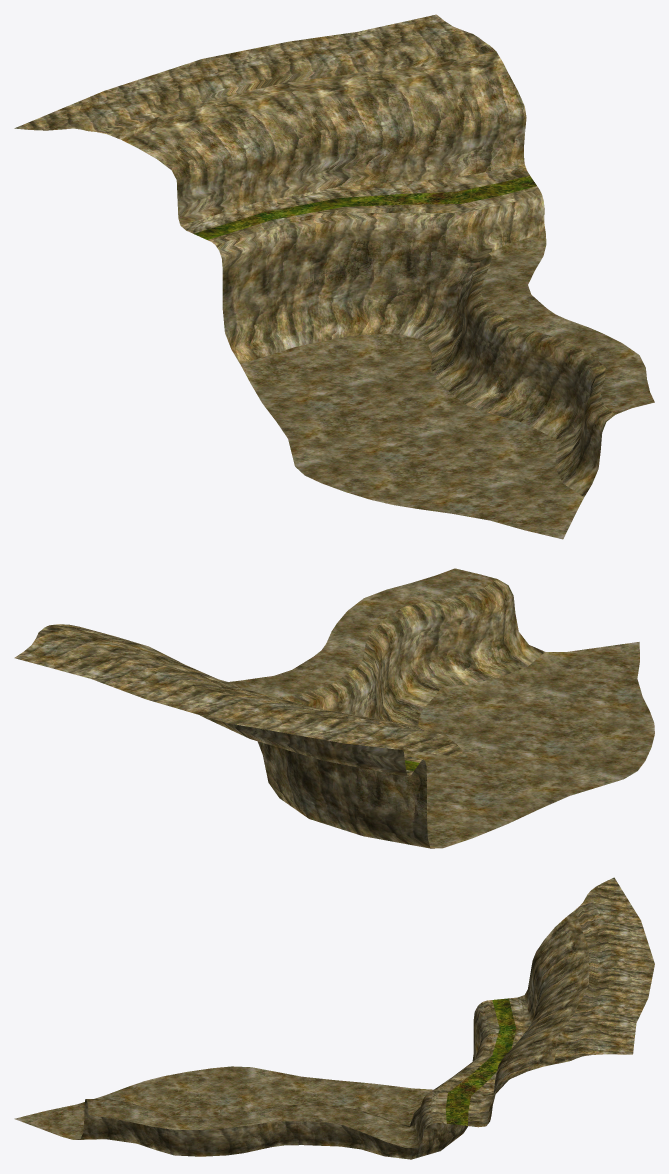
File: RM_PLAYSURFACE_FINAL_RM_PLAYSURFACE07.fbx
3 renders of one model, top to bottom at view 1: azimuth 30°, elevation 25°; view 2: azimuth 150°, elevation 25°; view 3: azimuth 270°, elevation 25°, orthographic. The views are drawn at different scales.
Parts seen in each view (by area): view 1: RM_PLAYSURFACE_FINAL_RM_PLAYSURFACE07; view 2: RM_PLAYSURFACE_FINAL_RM_PLAYSURFACE07; view 3: RM_PLAYSURFACE_FINAL_RM_PLAYSURFACE07.
Boxes of the visible parts, bbox=[...] form: RM_PLAYSURFACE_FINAL_RM_PLAYSURFACE07: bbox=[14, 14, 654, 539]; RM_PLAYSURFACE_FINAL_RM_PLAYSURFACE07: bbox=[14, 568, 654, 848]; RM_PLAYSURFACE_FINAL_RM_PLAYSURFACE07: bbox=[14, 877, 654, 1159].
Bounding box in the file's own units: 256117 × 107551 × 380170.
5 materials, 5 textured.
